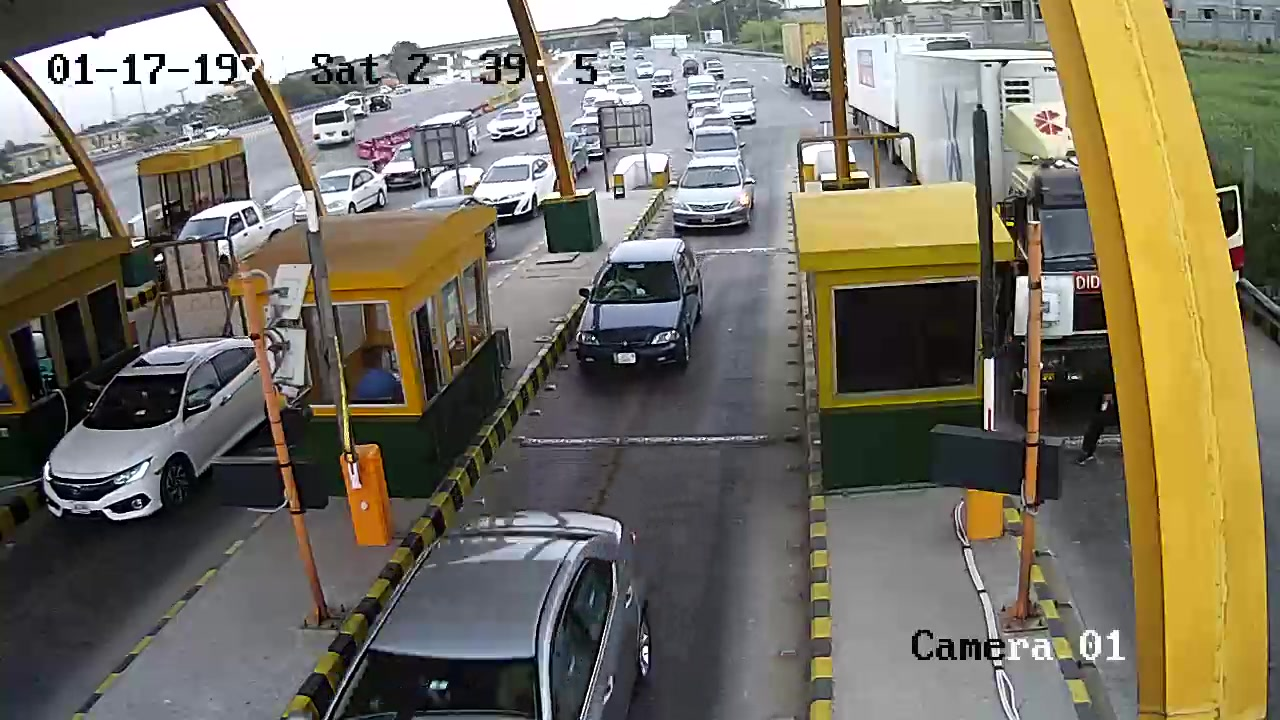F1: (573, 234, 707, 395)
